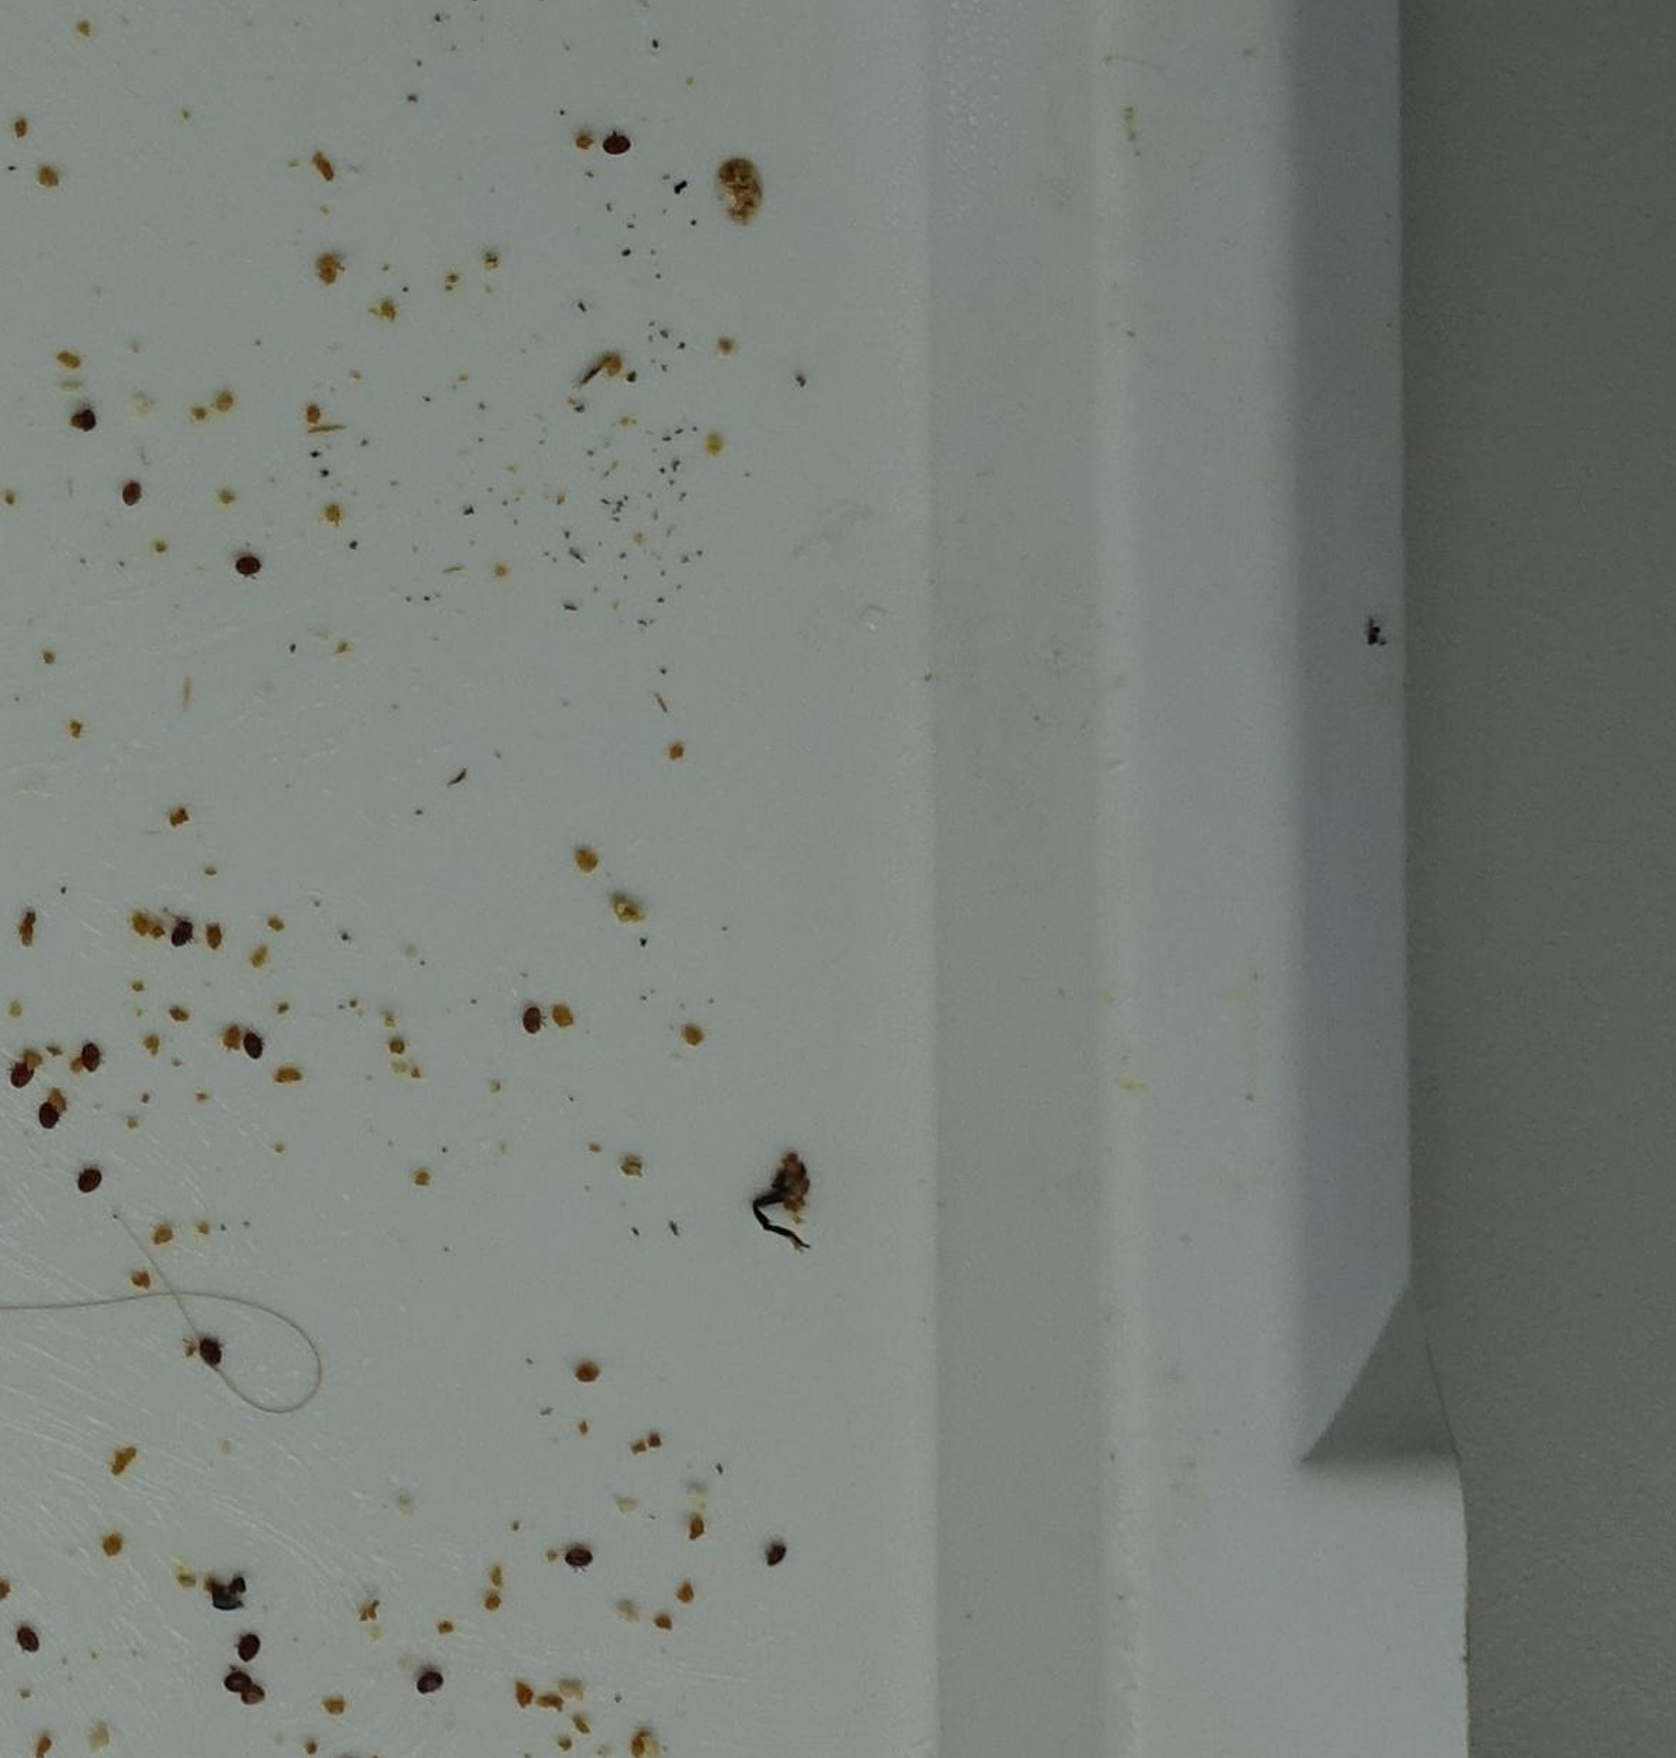Varroa: (111, 474, 154, 516), (228, 556, 265, 590), (417, 1662, 454, 1697), (756, 1537, 791, 1573), (228, 1676, 261, 1711), (599, 130, 632, 163), (35, 1103, 67, 1136), (74, 1042, 105, 1075), (229, 1632, 261, 1665), (570, 1541, 599, 1576), (3, 1060, 33, 1092), (235, 1023, 264, 1058), (72, 1165, 104, 1194), (516, 1003, 546, 1034), (165, 917, 195, 946), (16, 1628, 44, 1656), (196, 1337, 223, 1364)
